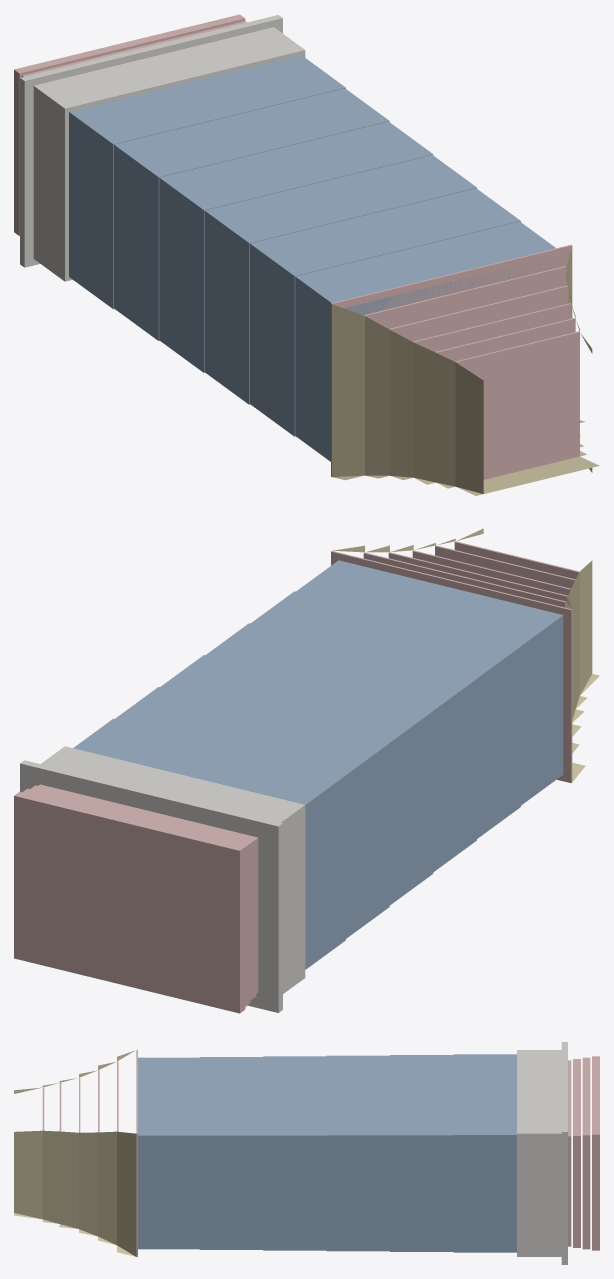
Rendered from frost_tower_massing.glb.
3 views of the same model, one above another, from view 1: azimuth 30°, elevation 25°; view 2: azimuth 150°, elevation 25°; view 3: azimuth 270°, elevation 25° (orthographic). The views are drawn at different scales.
Parts seen in each view (by area): view 1: tower_curtain_wall_2, tower_curtain_wall_1, tower_curtain_wall_3, tower_curtain_wall_4, tower_curtain_wall_5, tower_curtain_wall_6, podium, crown_infill_6, site_pad, crown_fold_1_3, crown_infill_1, crown_infill_2 (+10 smaller); view 2: parking_stratum_1, tower_curtain_wall_3, tower_curtain_wall_2, tower_curtain_wall_4, tower_curtain_wall_5, tower_curtain_wall_6, tower_curtain_wall_1, site_pad, podium, crown_infill_1, parking_stratum_3, parking_stratum_2 (+8 smaller); view 3: tower_curtain_wall_1, tower_curtain_wall_2, tower_curtain_wall_3, tower_curtain_wall_5, tower_curtain_wall_4, tower_curtain_wall_6, podium, crown_fold_6_2, crown_fold_1_2, crown_fold_2_2, crown_fold_3_2, crown_fold_4_2 (+7 smaller).
Boxes of the visible parts, x1=… form: tower_curtain_wall_2: x1=114, y1=88, x2=389, y2=340; tower_curtain_wall_1: x1=69, y1=55, x2=345, y2=309; tower_curtain_wall_3: x1=159, y1=121, x2=433, y2=372; tower_curtain_wall_4: x1=204, y1=155, x2=476, y2=404; tower_curtain_wall_5: x1=250, y1=188, x2=520, y2=436; tower_curtain_wall_6: x1=295, y1=221, x2=562, y2=461; podium: x1=33, y1=27, x2=305, y2=281; crown_infill_6: x1=455, y1=331, x2=579, y2=479; site_pad: x1=20, y1=15, x2=282, y2=267; crown_fold_1_3: x1=332, y1=304, x2=364, y2=477; crown_infill_1: x1=331, y1=245, x2=572, y2=476; crown_infill_2: x1=364, y1=266, x2=566, y2=328; parking_stratum_1: x1=14, y1=792, x2=245, y2=1013; tower_curtain_wall_3: x1=160, y1=655, x2=433, y2=905; tower_curtain_wall_2: x1=115, y1=687, x2=389, y2=938; tower_curtain_wall_4: x1=205, y1=623, x2=476, y2=871; tower_curtain_wall_5: x1=251, y1=591, x2=520, y2=838; tower_curtain_wall_6: x1=296, y1=560, x2=563, y2=805; tower_curtain_wall_1: x1=73, y1=718, x2=345, y2=969; site_pad: x1=20, y1=760, x2=282, y2=1012; podium: x1=41, y1=746, x2=305, y2=993; crown_infill_1: x1=331, y1=551, x2=572, y2=782; parking_stratum_3: x1=30, y1=785, x2=256, y2=999; parking_stratum_2: x1=22, y1=788, x2=250, y2=1006; tower_curtain_wall_1: x1=453, y1=1054, x2=516, y2=1252; tower_curtain_wall_2: x1=390, y1=1055, x2=453, y2=1251; tower_curtain_wall_3: x1=326, y1=1055, x2=389, y2=1251; tower_curtain_wall_5: x1=199, y1=1057, x2=263, y2=1249; tower_curtain_wall_4: x1=263, y1=1056, x2=326, y2=1250; tower_curtain_wall_6: x1=138, y1=1057, x2=199, y2=1249; podium: x1=517, y1=1050, x2=561, y2=1256; crown_fold_6_2: x1=14, y1=1130, x2=42, y2=1219; crown_fold_1_2: x1=117, y1=1131, x2=136, y2=1256; crown_fold_2_2: x1=98, y1=1131, x2=116, y2=1244; crown_fold_3_2: x1=79, y1=1132, x2=97, y2=1236; crown_fold_4_2: x1=59, y1=1131, x2=78, y2=1228.
Size of the model in its own units: 60.96 by 42.06 by 168.
